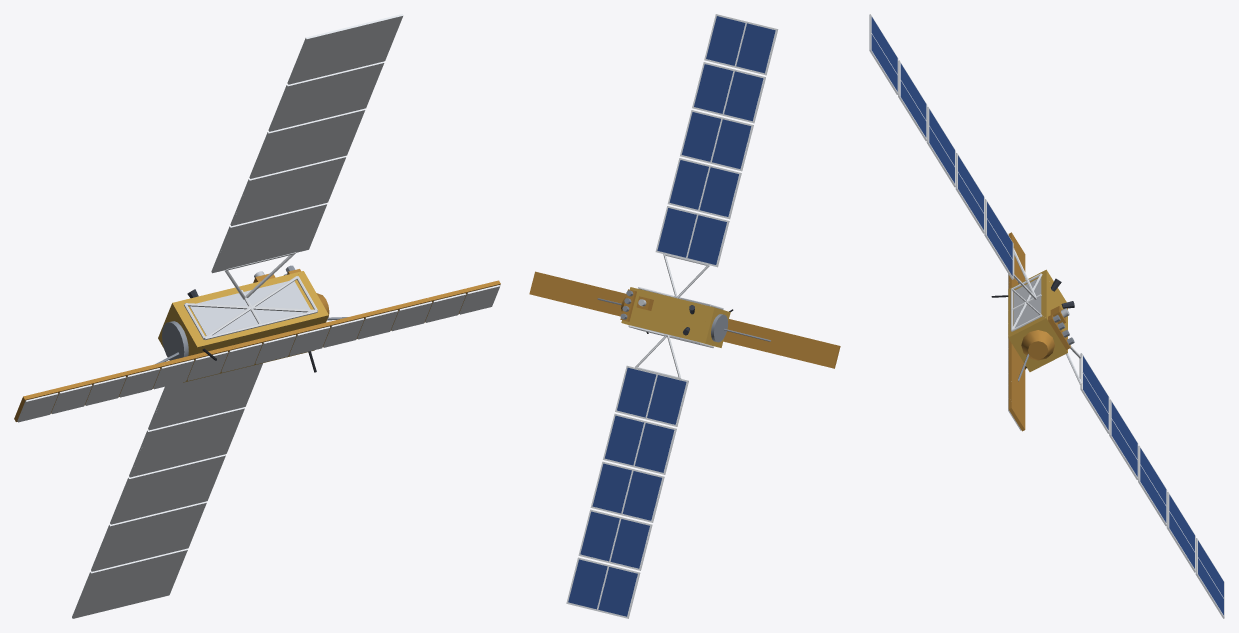
Rendered from sentinel-1.glb.
3 views of the same model, side by side, from view 1: azimuth 30°, elevation 25°; view 2: azimuth 150°, elevation 25°; view 3: azimuth 270°, elevation 25° (orthographic). The views are drawn at different scales.
Parts seen in each view (by area): view 1: body, foil; view 2: solar-panel, foil, body; view 3: solar-panel, body, foil.
Part boxes in pixels (bbox=[...]): body: bbox=[17, 14, 500, 618]; foil: bbox=[14, 269, 500, 421]; solar-panel: bbox=[568, 16, 775, 616]; foil: bbox=[529, 271, 840, 368]; body: bbox=[566, 14, 778, 618]; solar-panel: bbox=[871, 17, 1223, 615]; body: bbox=[869, 14, 1224, 618]; foil: bbox=[1008, 232, 1070, 431].
Size of the model in its own units: 12.3 by 18.57 by 10.52.
